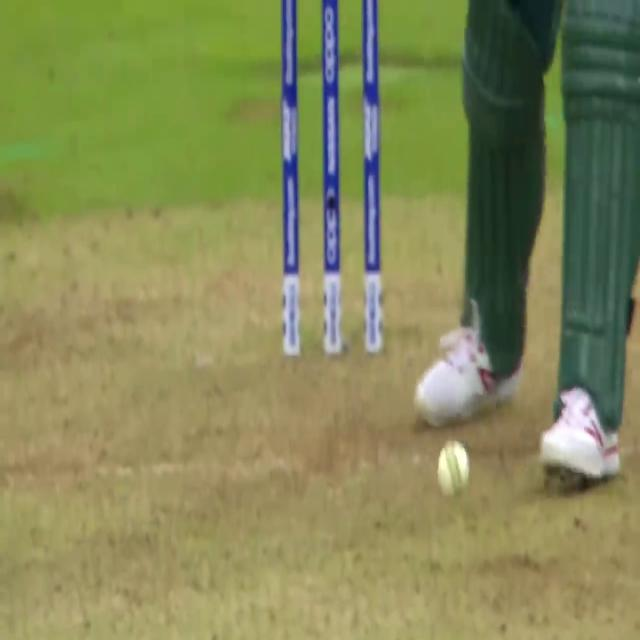ball: (436, 436, 470, 506)
